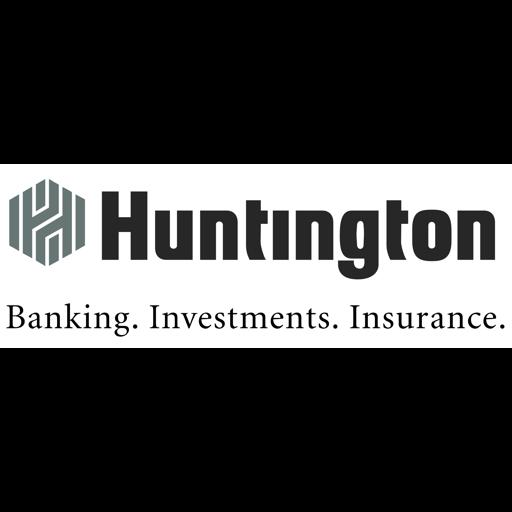Huntington Bank: (0, 164, 512, 348)
